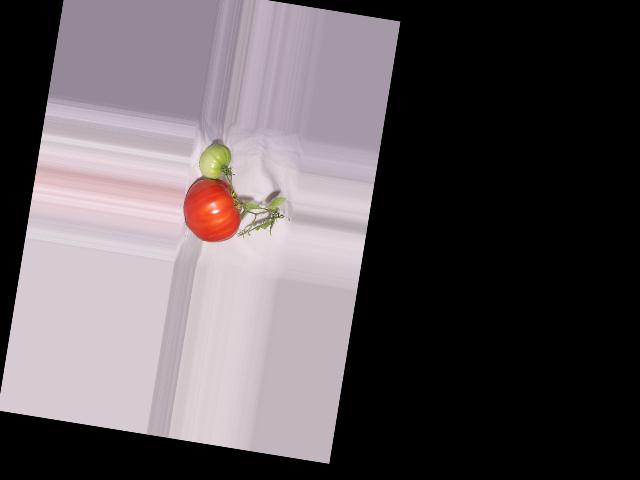tomato: (178, 174, 246, 246)
